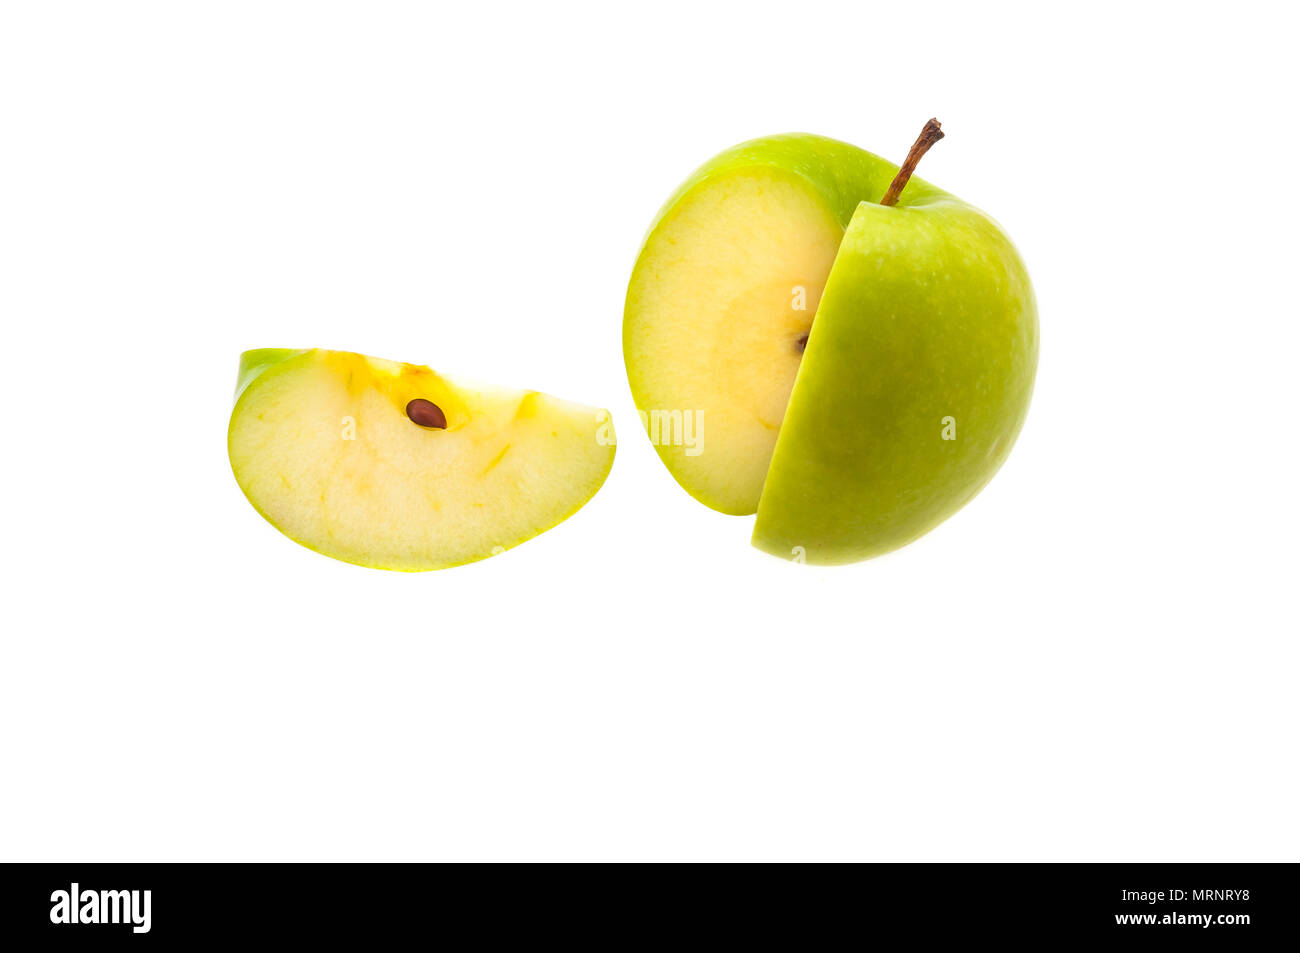apple: (173, 167, 631, 651), (628, 93, 1072, 591)
